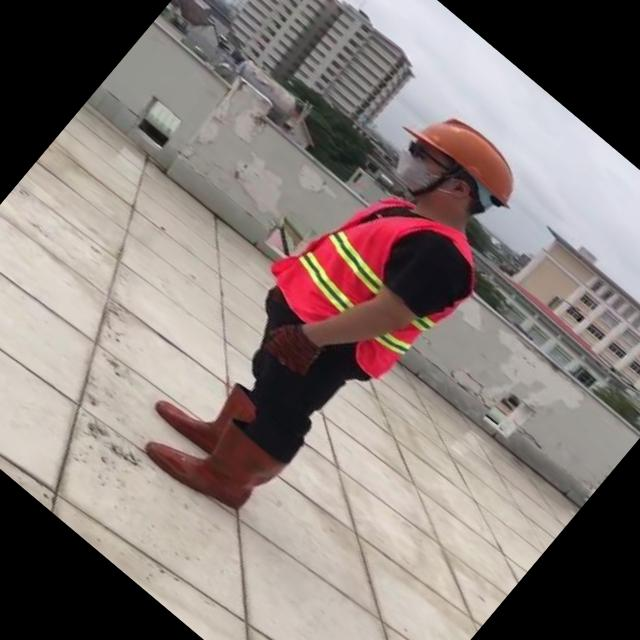hard_hat: (402, 91, 537, 215)
safety_vest: (261, 158, 495, 392)
vehicle: (115, 70, 566, 554)
work_boots: (142, 391, 284, 526), (152, 356, 260, 464)
